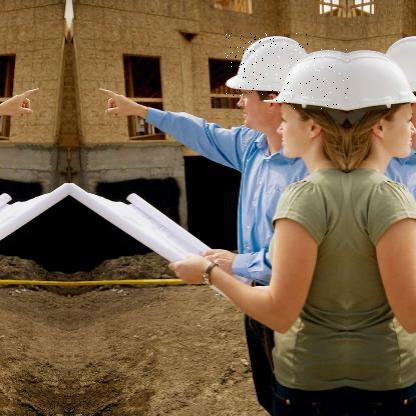safetyhelmet: (226, 33, 310, 97), (274, 48, 350, 110)
